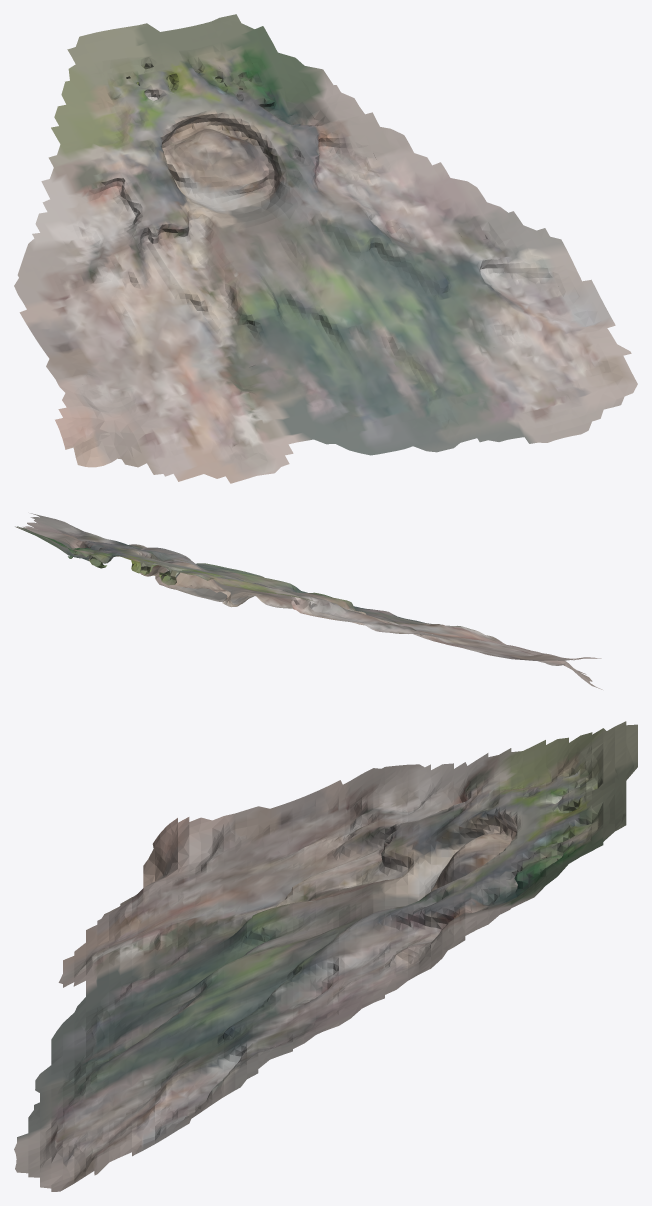
Rendered from colosseum.glb.
The picture shows the model from 3 angles, top to bottom: view 1: azimuth 30°, elevation 25°; view 2: azimuth 150°, elevation 25°; view 3: azimuth 270°, elevation 25°; orthographic projection. The views are drawn at different scales.
Visible parts, largest first — view 1: world; view 2: world; view 3: world.
Part boxes in pixels (x1,y1,x2,y2): world: [14, 14, 637, 483]; world: [15, 513, 602, 689]; world: [14, 721, 637, 1191].
Size of the model in its own units: 2.73 by 1.26 by 2.31.
